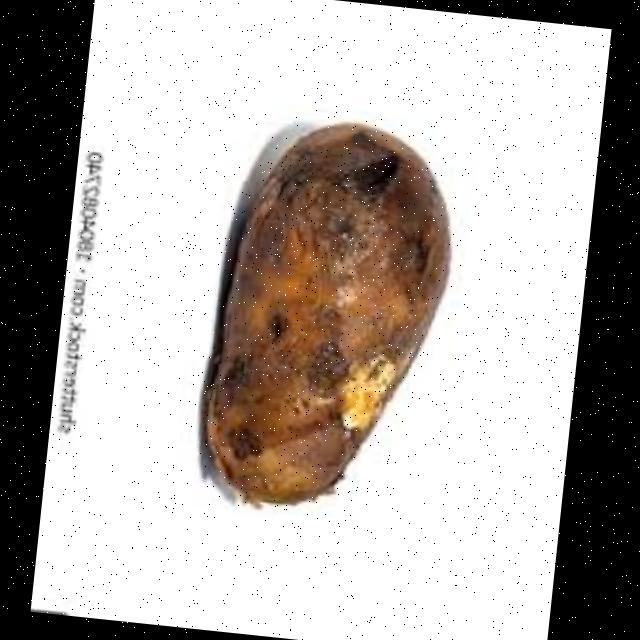Diseased-fungal potato: (202, 111, 468, 522)
